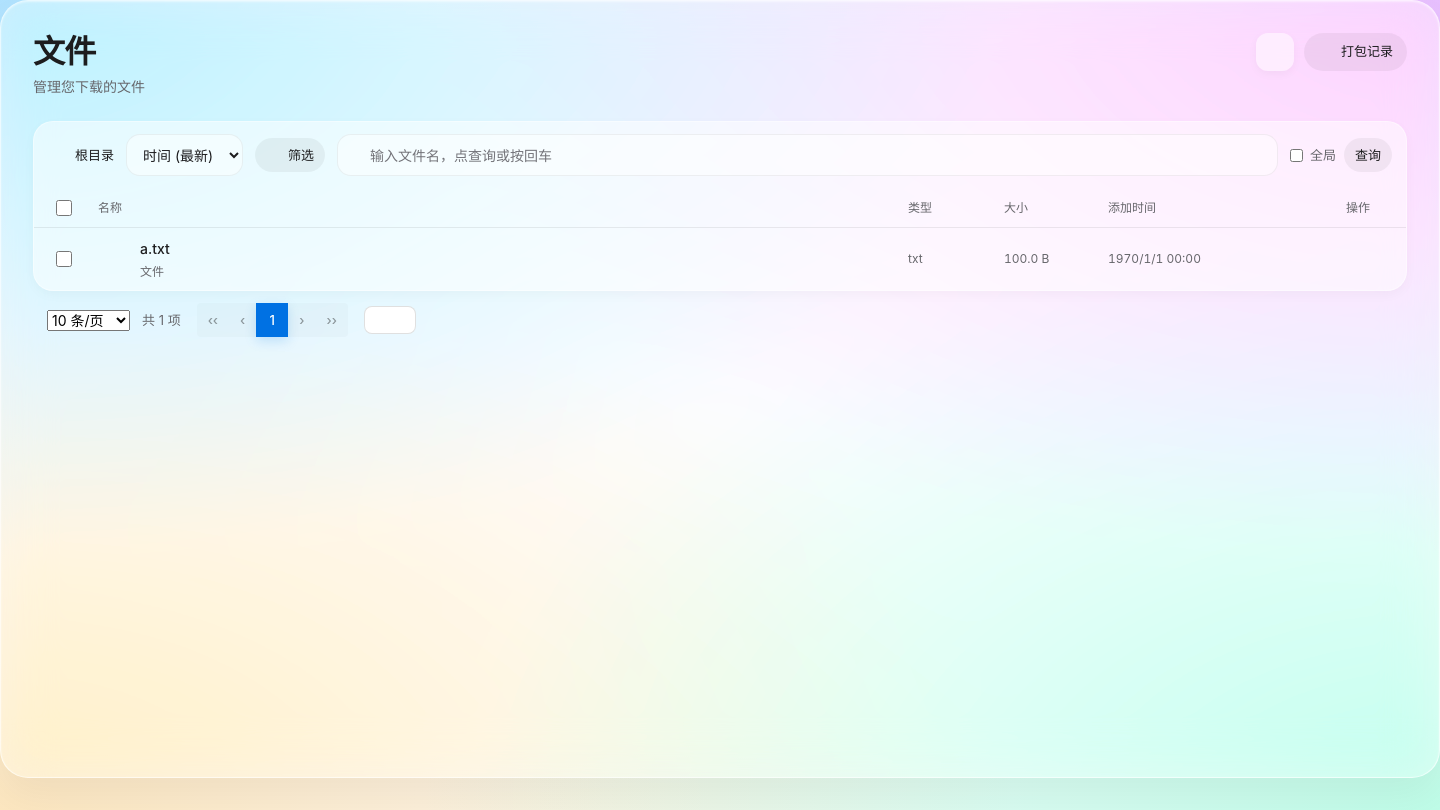
Test: FilesPage 搜索 › 空关键词给出警告且不发搜索请求
The width and height of the screenshot is (1440, 810).
Expected: the text "a.txt" is shown, [140, 240, 170, 257]
Click the button "查询". click: (1368, 155)
box: [1344, 138, 1392, 172]
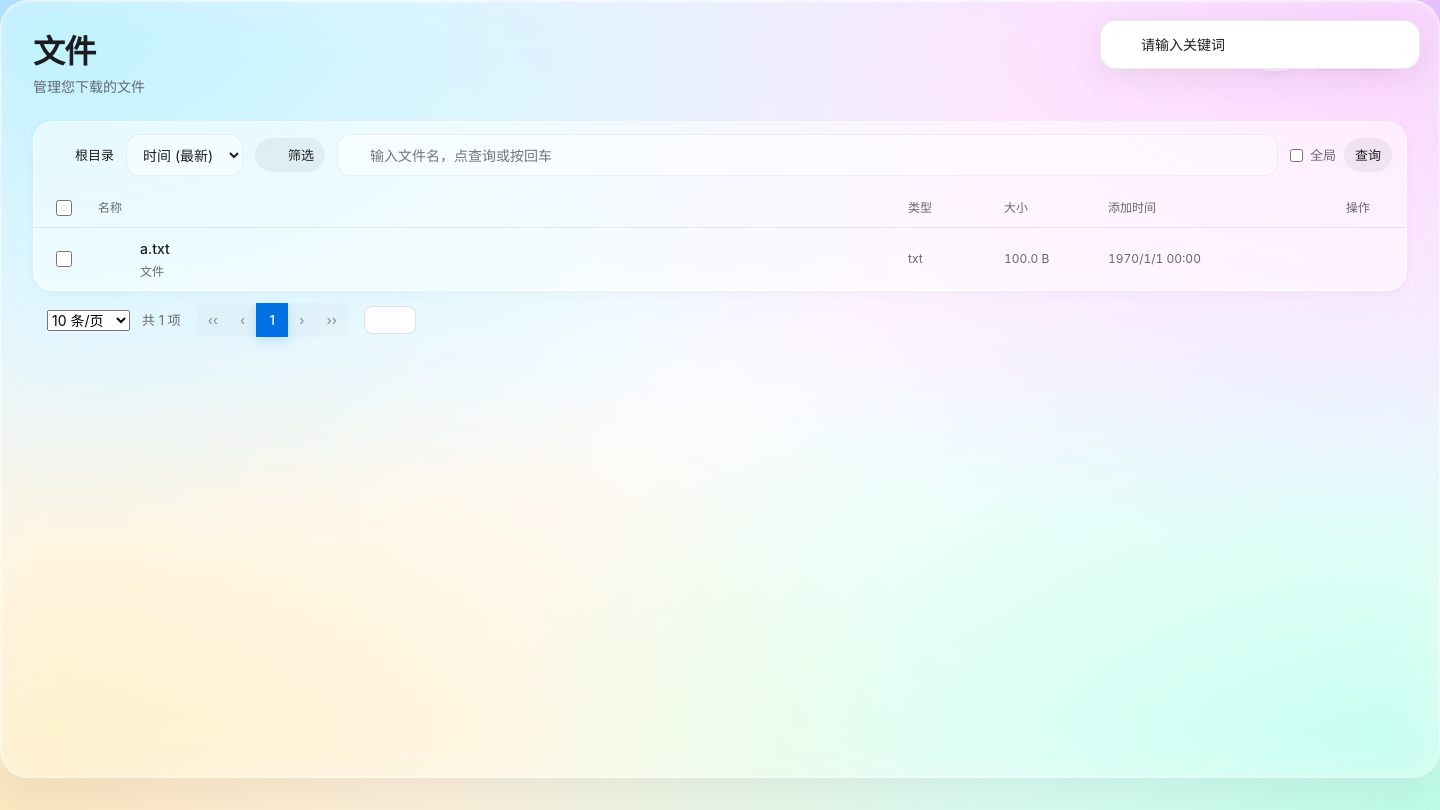
Expected: the text "请输入关键词" is shown, [1141, 36, 1225, 53]
